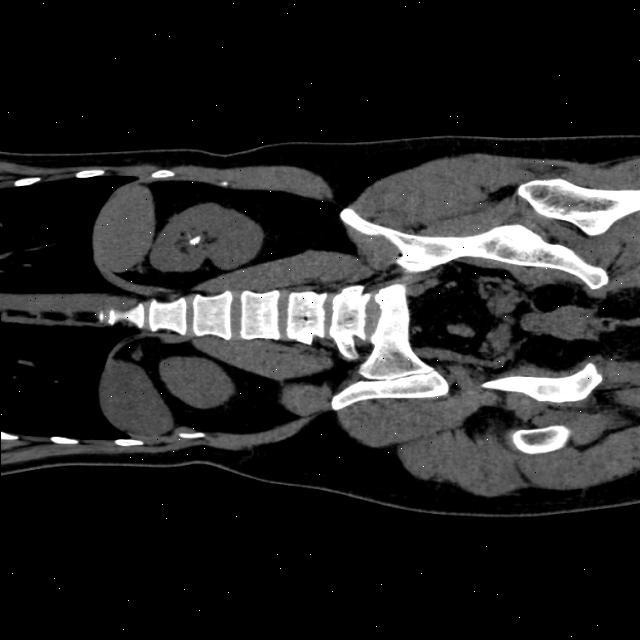kidneystone: (189, 236, 200, 244)
